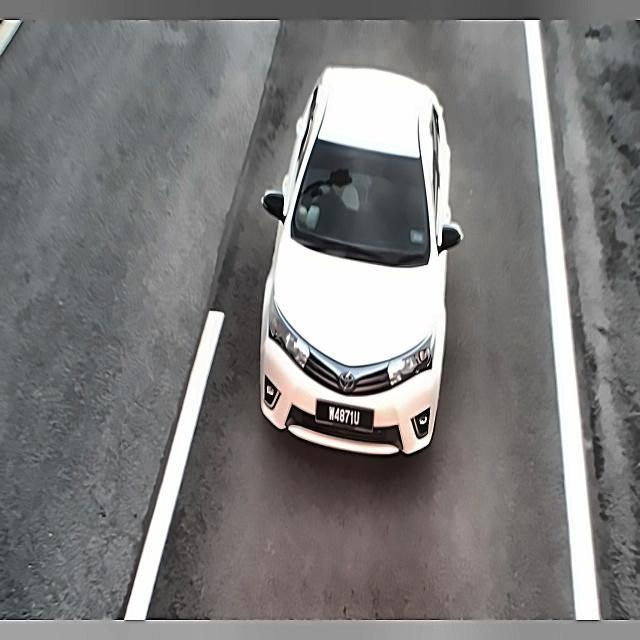car: (313, 400, 378, 438)
